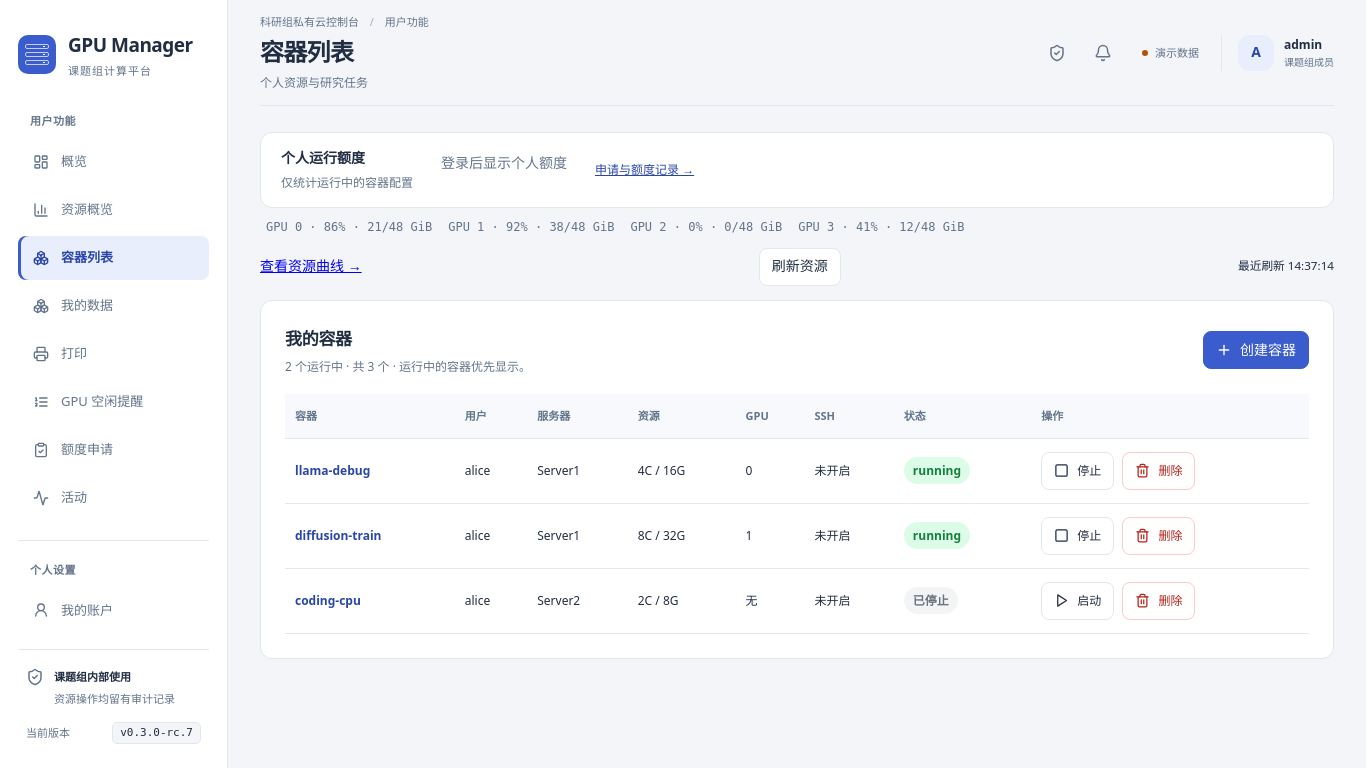
Test: creation errors keep custom values in the dialog for correction
Click the button "创建容器": (1256, 350) 1203,331 -> 1309,369
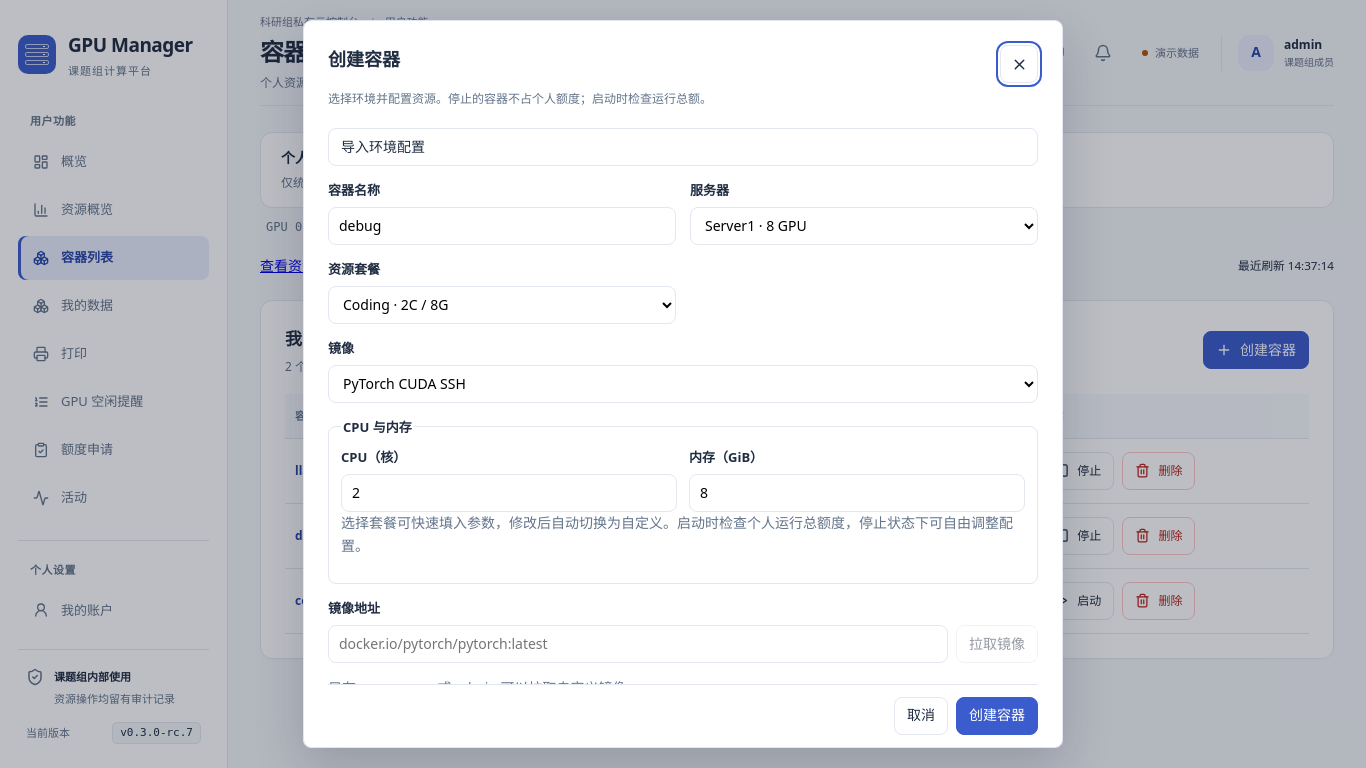
Replace the text in the number field labelled "CPU（核）" with "6": (509, 493) 341,474 -> 677,512
(page scrolled)
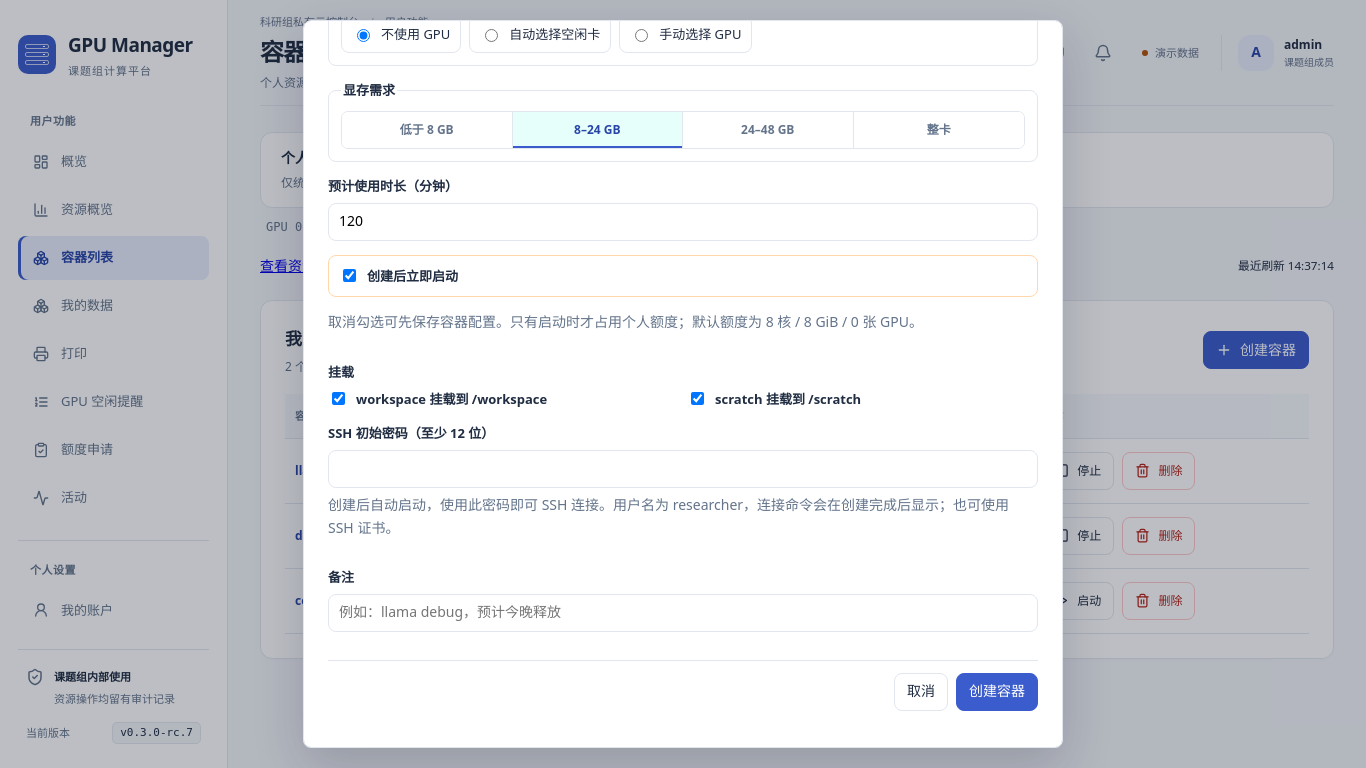
In the password field labelled "SSH 初始密码（至少 12 位）": (683, 469) 328,450 -> 1038,488, type "creation-ssh-password"
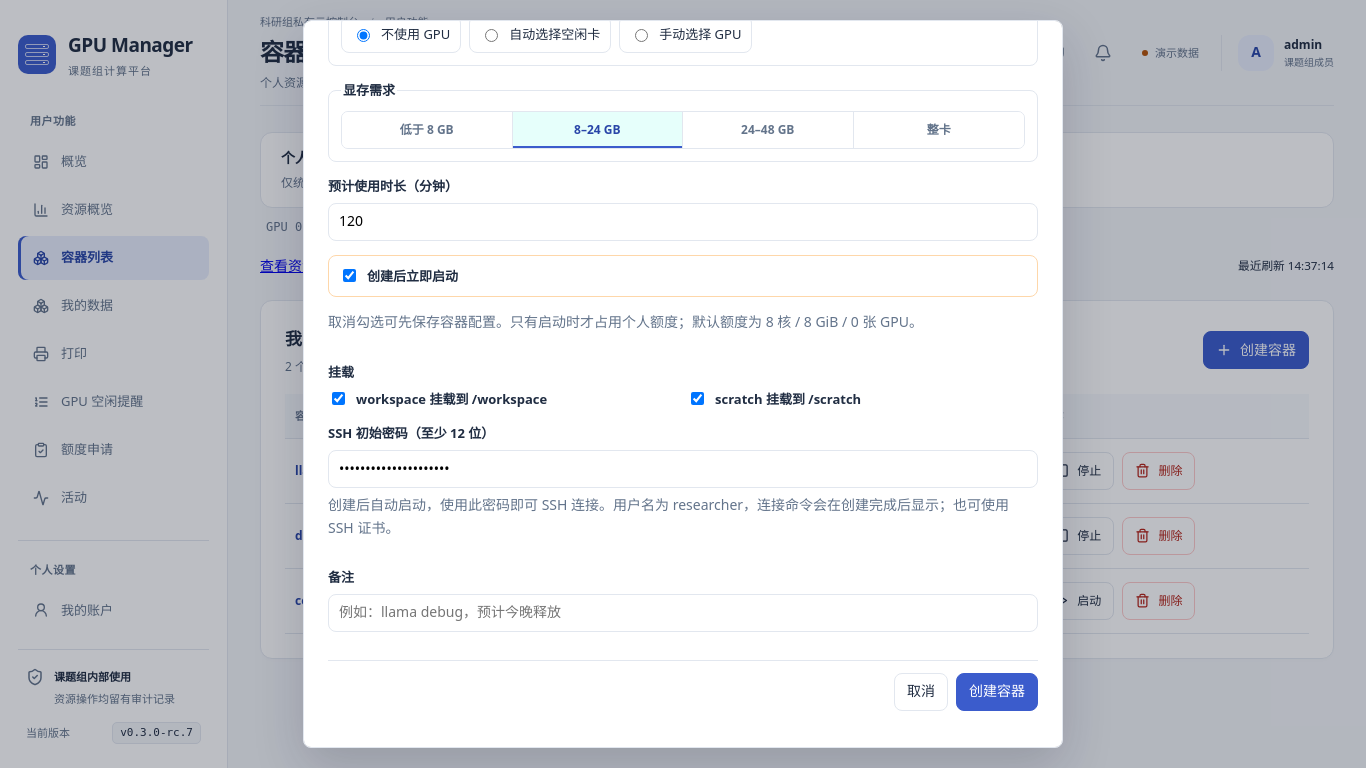
Click the button "创建容器": (997, 692) 956,673 -> 1038,711
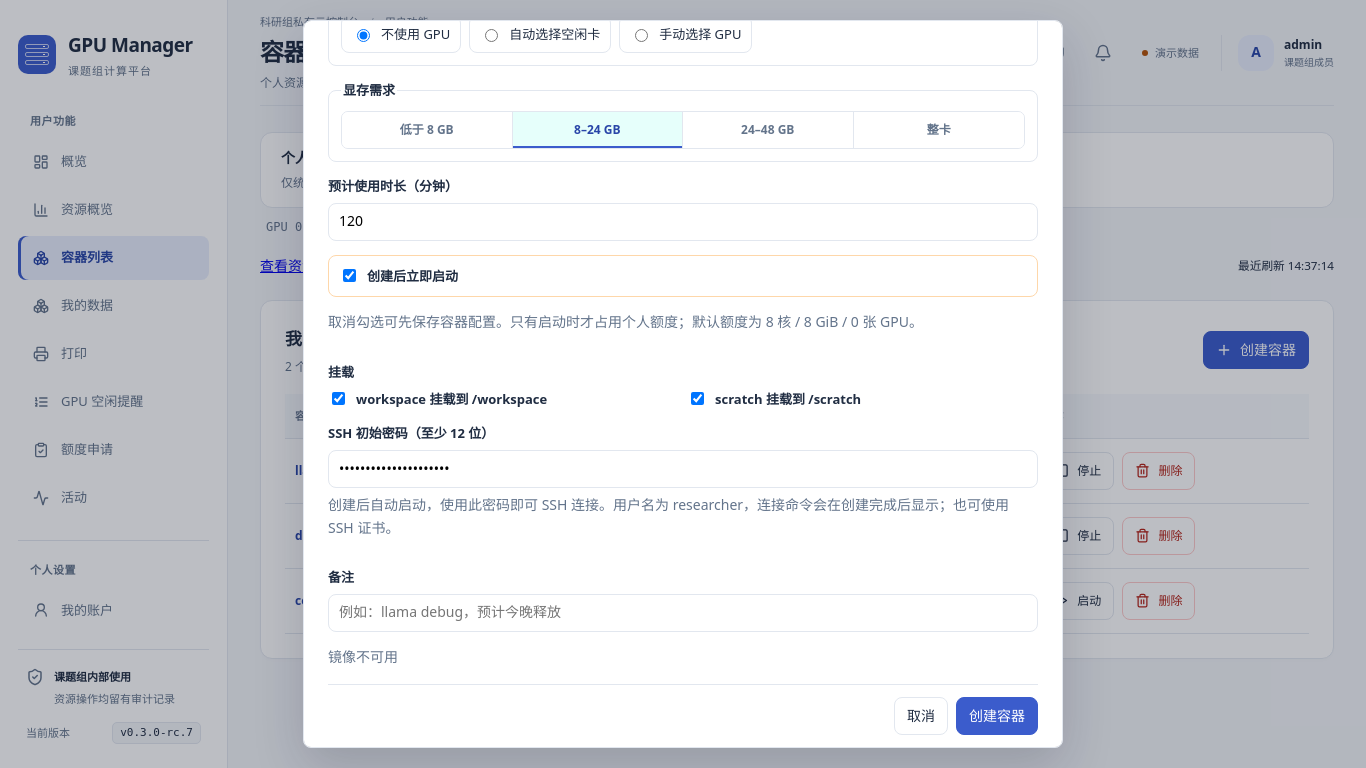
expect the button "取消" is enabled: met, box 894,697 -> 948,735
expect the message reads "镜像不可用": met, box 328,647 -> 398,666
